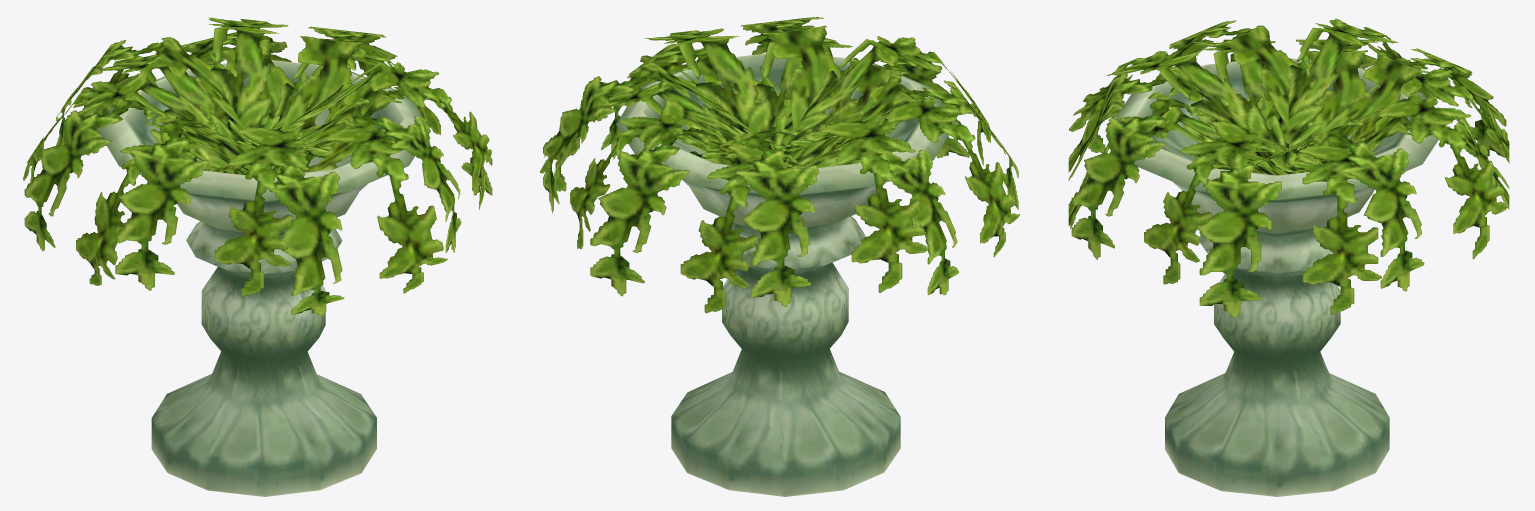
Rendered from o-kusa2.glb.
3 views of the same model, side by side, from view 1: azimuth 30°, elevation 25°; view 2: azimuth 150°, elevation 25°; view 3: azimuth 270°, elevation 25° (orthographic).
Parts seen in each view (by area): view 1: o_kusa2; view 2: o_kusa2; view 3: o_kusa2.
Boxes of the visible parts, x1=… form: o_kusa2: x1=23, y1=17, x2=492, y2=496; o_kusa2: x1=540, y1=17, x2=1019, y2=496; o_kusa2: x1=1068, y1=18, x2=1509, y2=496.
Bounding box in the file's own units: 199 × 173 × 198.
2 materials, 2 textured.
